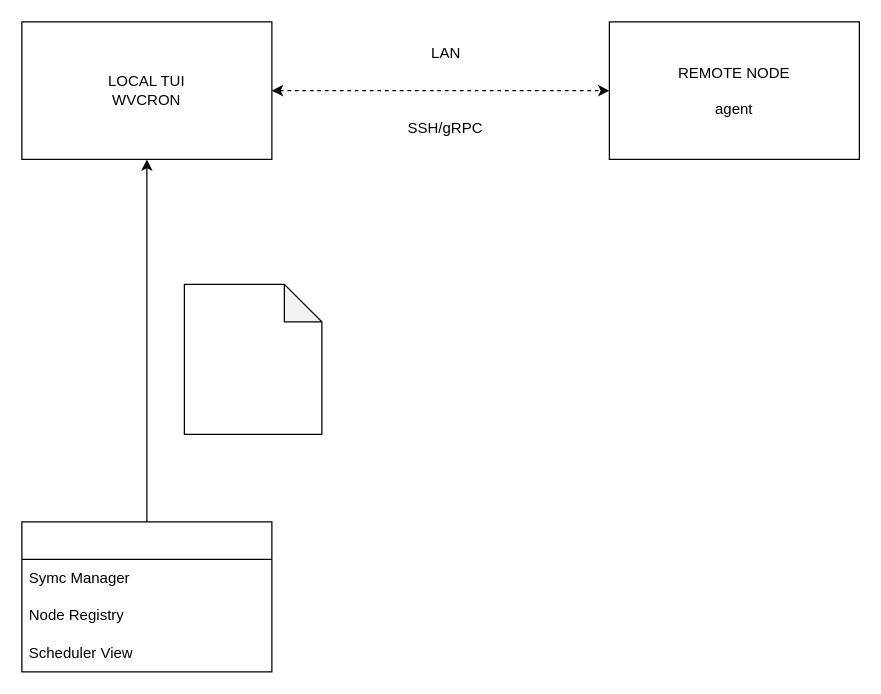
Some shapes in this 881 by 694 pixel diagram are drawn without their labels. The box of each missing label's shape, as (x1, y1, x2, y2) in pixels:
Ctrontab Parser: (21, 521, 272, 672)
Parses, edits crontabs (local + remote) Shows unified view of all schedules: (183, 283, 322, 434)
